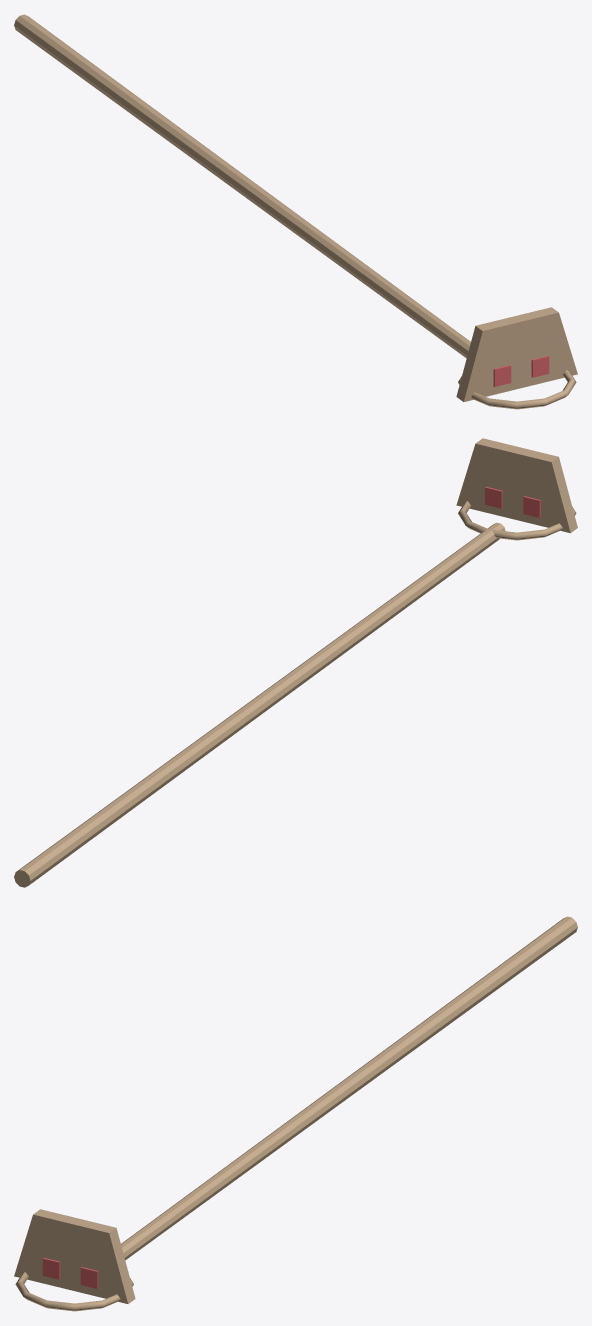
Rendered from casino-floor-and-back-rooms-dice-stick-bc8748e1__27032.glb.
3 renders of one model, top to bottom at view 1: azimuth 30°, elevation 25°; view 2: azimuth 150°, elevation 25°; view 3: azimuth 330°, elevation 25°, orthographic.
Parts seen in each view (by area): view 1: dice-stick; view 2: dice-stick; view 3: dice-stick.
Boxes of the visible parts, box(x1,y1,x2,y2) form: dice-stick: box(14, 14, 577, 409); dice-stick: box(14, 438, 577, 887); dice-stick: box(14, 916, 577, 1311).
Size of the model in its own units: 0.1799 by 0.1123 by 1.43.
